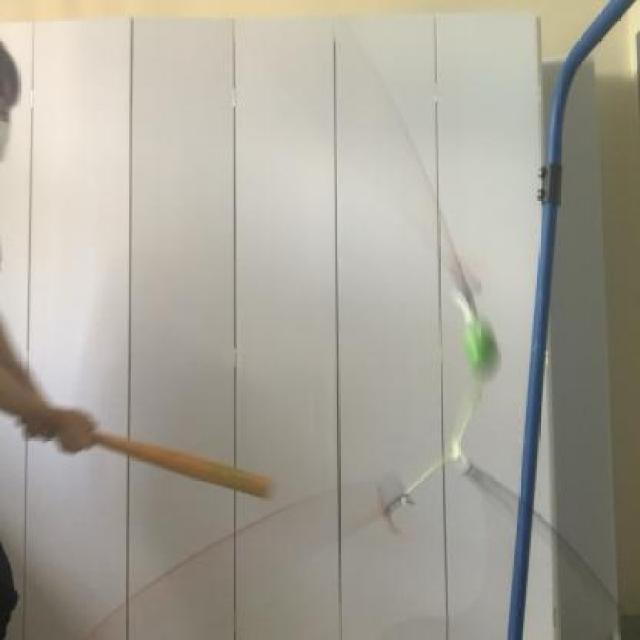baseball: (453, 309, 505, 382)
